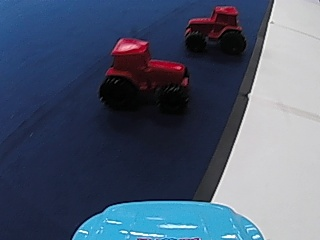tractor: (97, 33, 189, 111), (181, 4, 249, 55)
